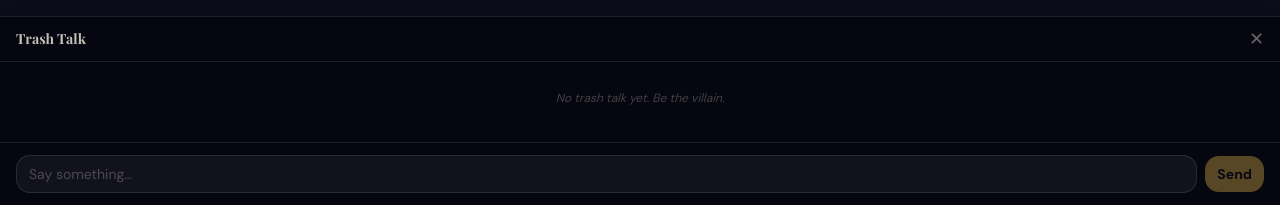
Test: ChatPanel › clears the input after Send is clicked
In the field with test id "chat-input": (607, 174) [16,155,1197,193], type "Great move!"
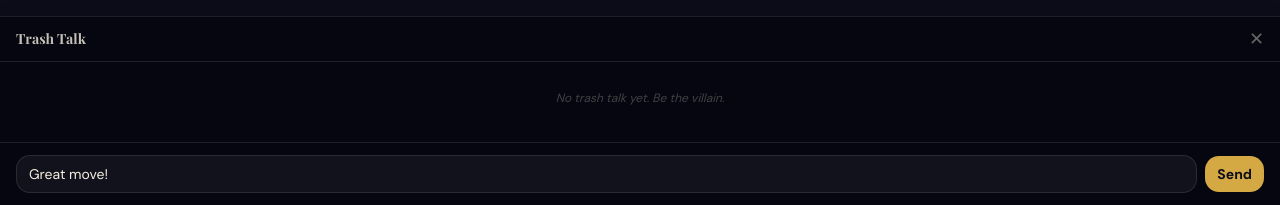
Click the button with test id "chat-send-btn": (1235, 174) [1205,156,1264,192]
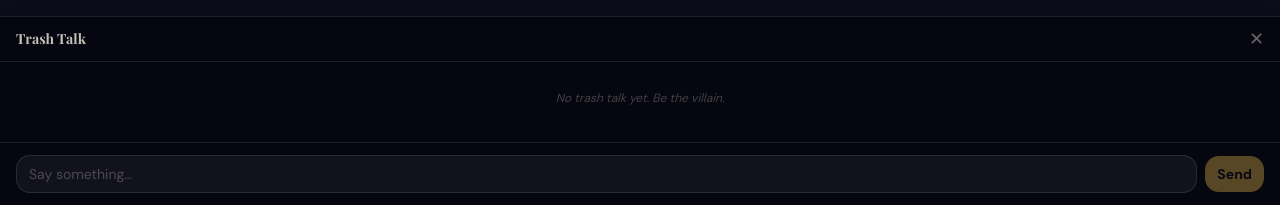
Expected: the field with test id "chat-input" is empty, [16,155,1197,193]
